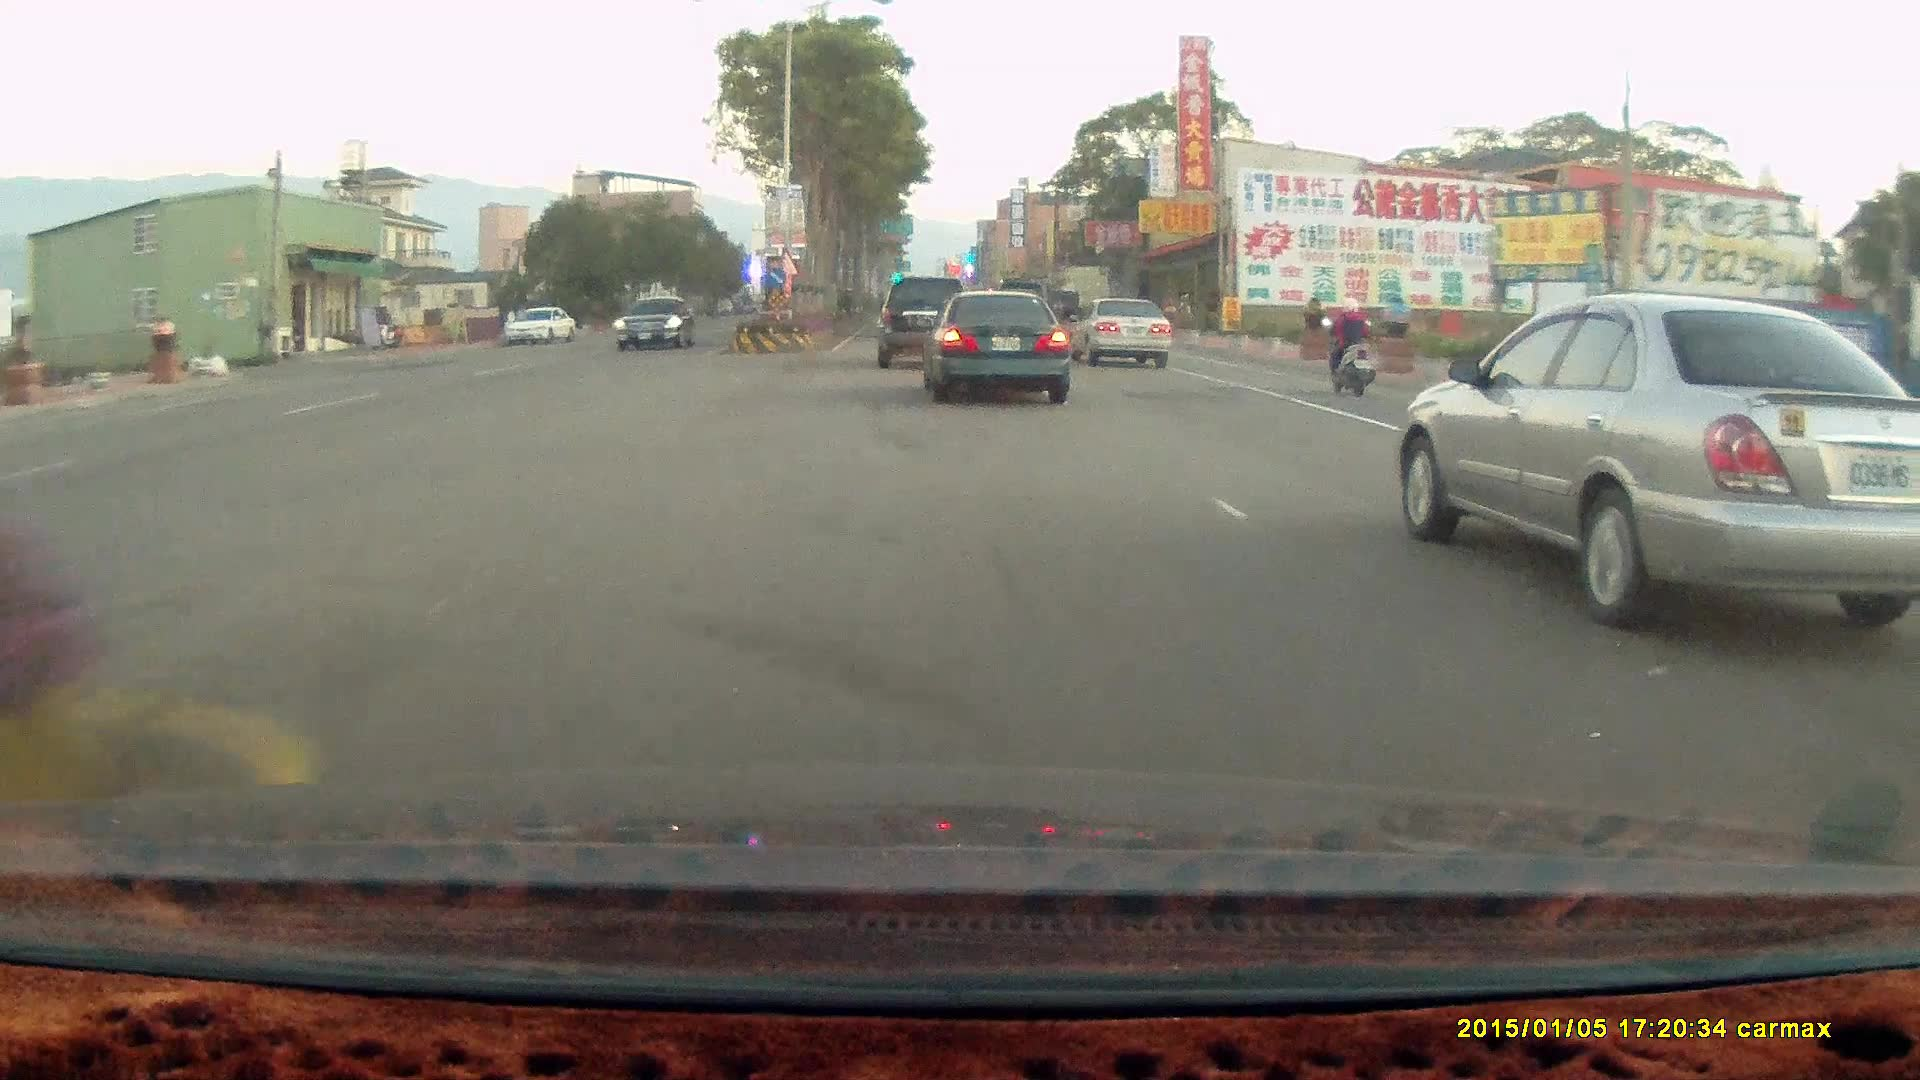rider: (1311, 289, 1389, 406), (1321, 297, 1376, 397)
vehicle: (1396, 295, 1920, 632), (918, 288, 1072, 403), (926, 296, 1073, 405), (880, 274, 976, 374), (877, 275, 971, 367), (1069, 294, 1173, 367), (1072, 301, 1176, 369), (615, 297, 698, 353), (614, 295, 697, 349), (505, 305, 579, 347), (504, 305, 576, 343)
